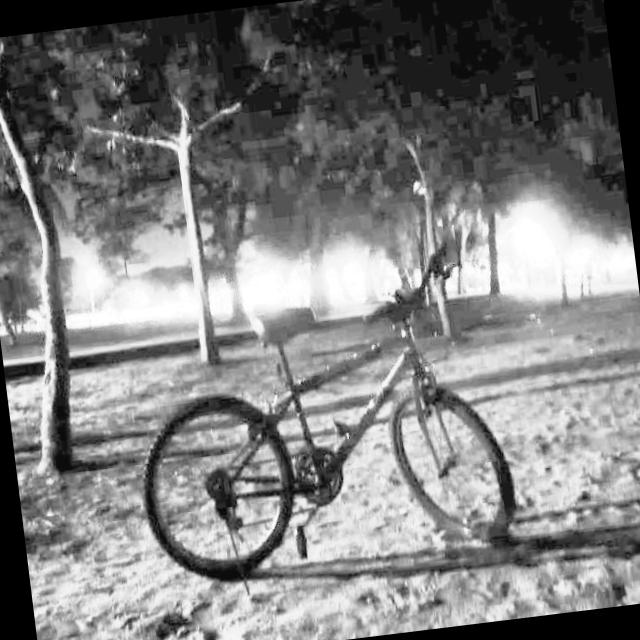Bicycle: (132, 248, 514, 603)
